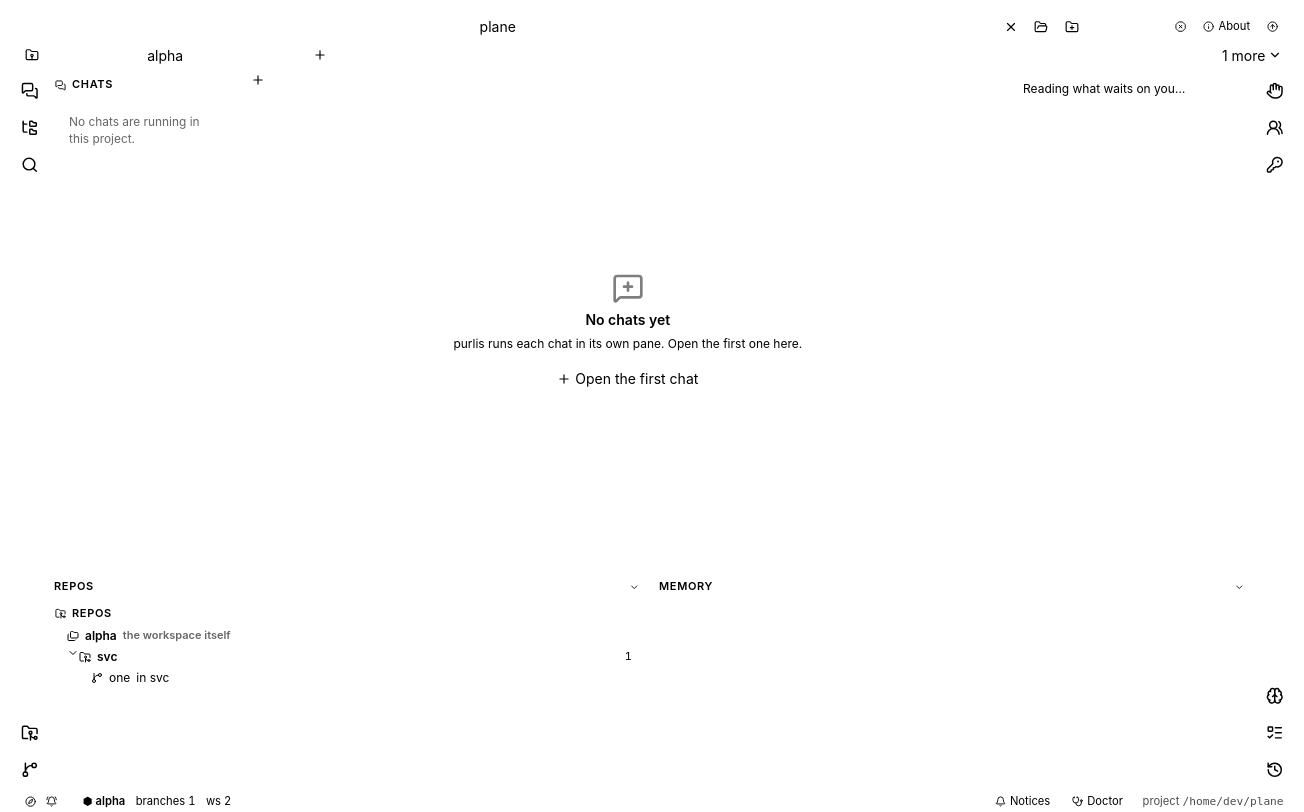
Test: Explorer in sections (#1677) › focuses a workspace from the section exactly as its tab on the strip does
The image size is (1304, 812).
Click the tab named "Explorer": (30, 128) [12, 110, 47, 145]
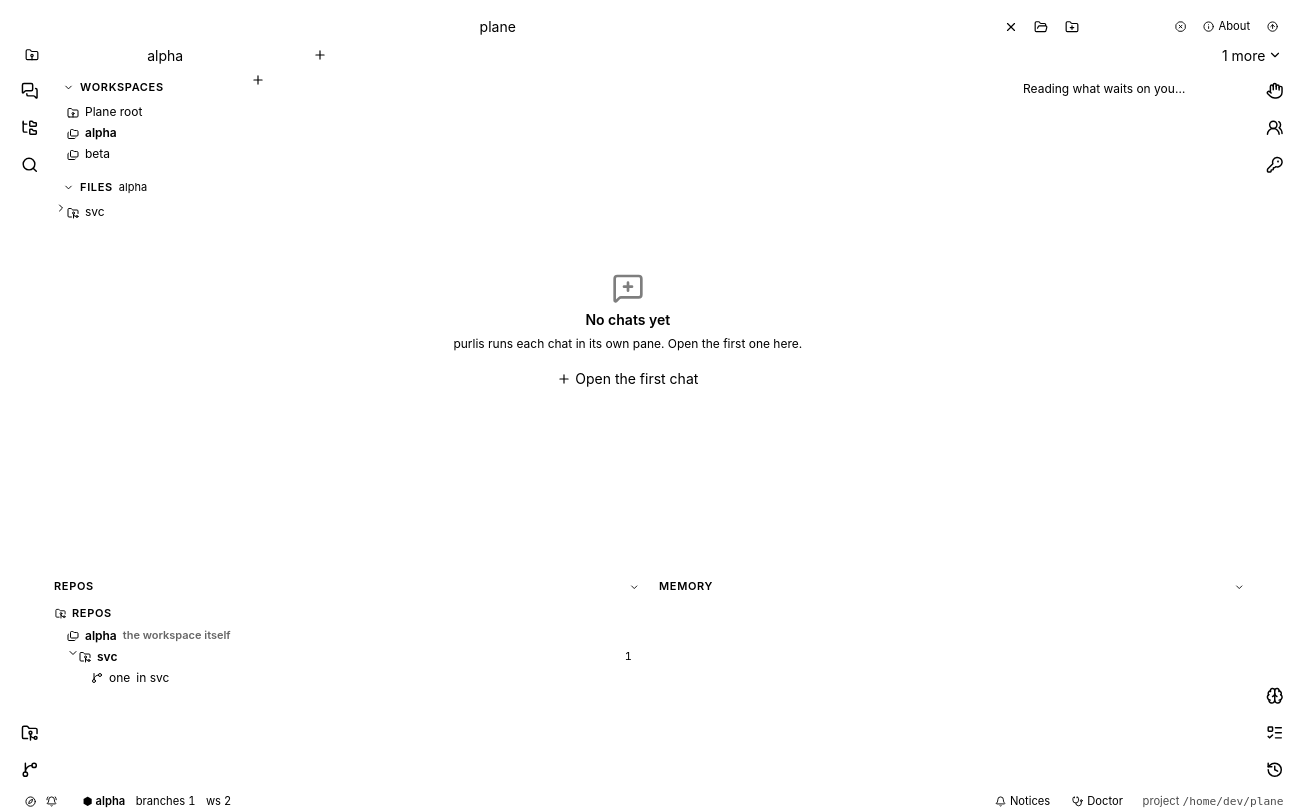
Click the list item "beta": (144, 155) [55, 144, 233, 165]
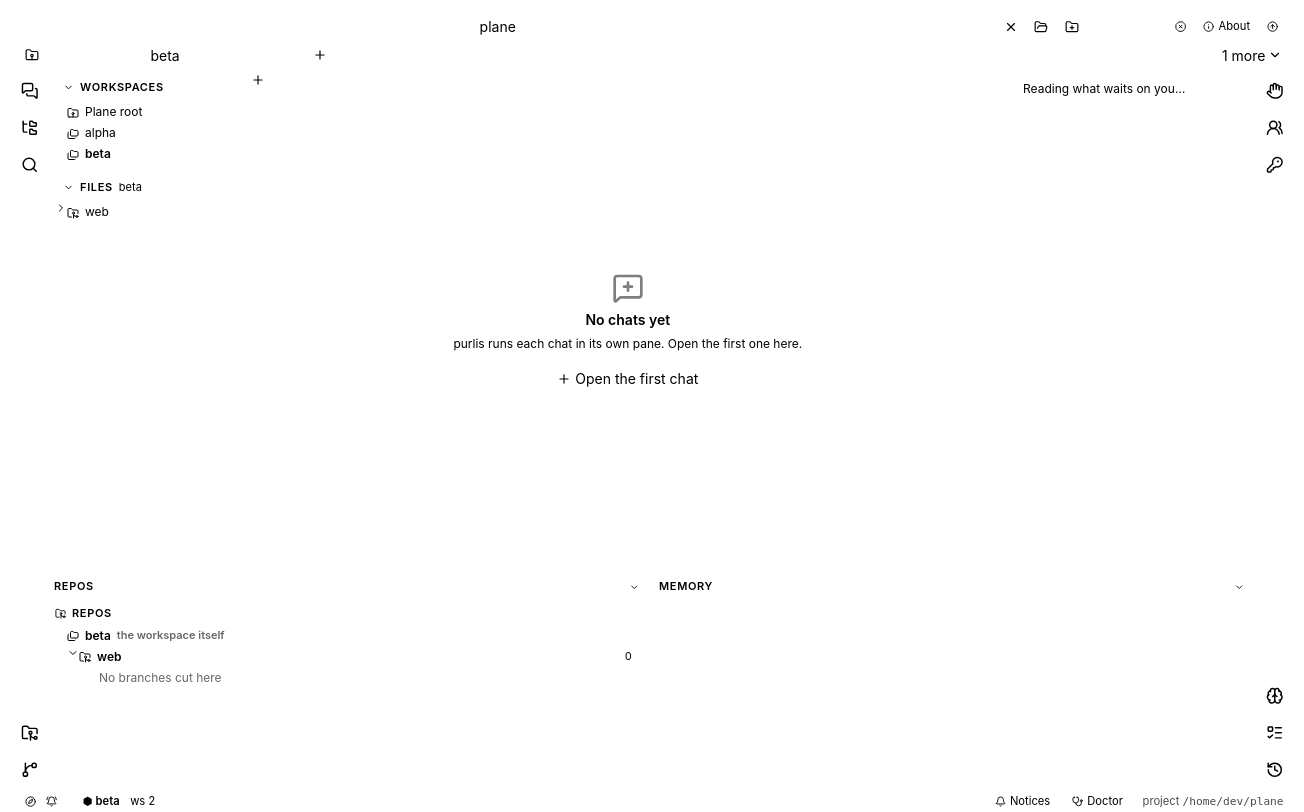
expect the element with test id "clone-web" is shown: met, box [55, 646, 644, 686]
